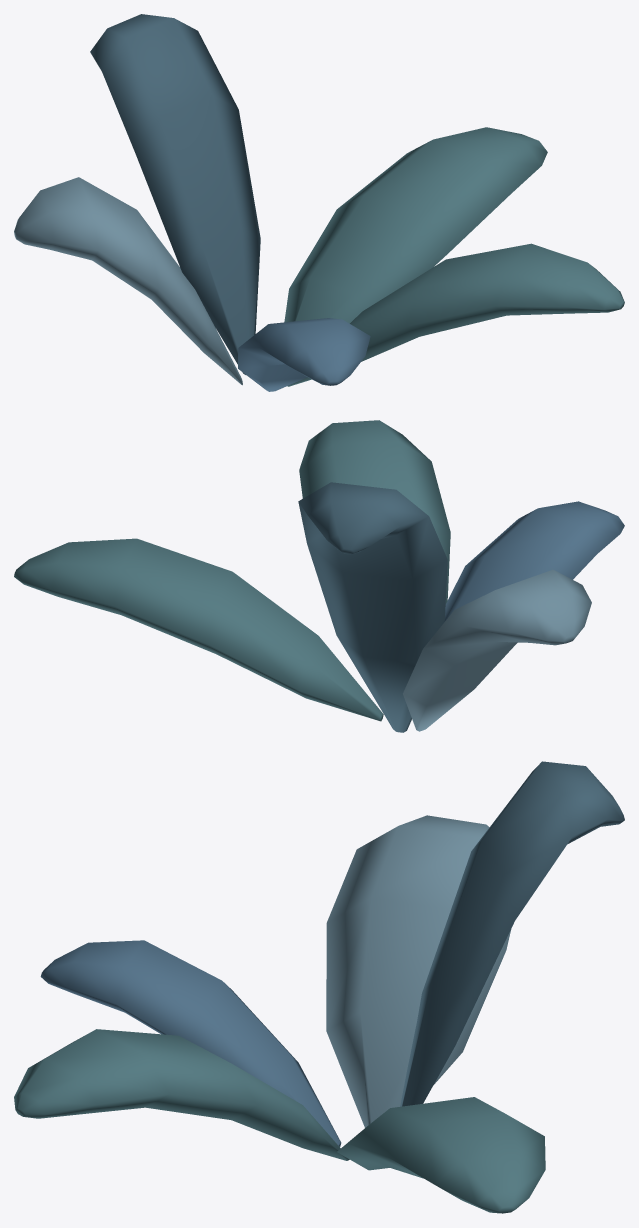
File: small_grass_02.glb
3 views of the same model, one above another, from view 1: azimuth 30°, elevation 25°; view 2: azimuth 150°, elevation 25°; view 3: azimuth 270°, elevation 25° (orthographic). The views are drawn at different scales.
Visible parts, largest first — view 1: small_grass_02; view 2: small_grass_02; view 3: small_grass_02.
Boxes of the visible parts, x1,y1,x2,y2 form: small_grass_02: [14, 14, 624, 391]; small_grass_02: [14, 420, 624, 732]; small_grass_02: [14, 761, 624, 1213].
Size of the model in its own units: 0.6256 by 0.3348 by 0.5237.
